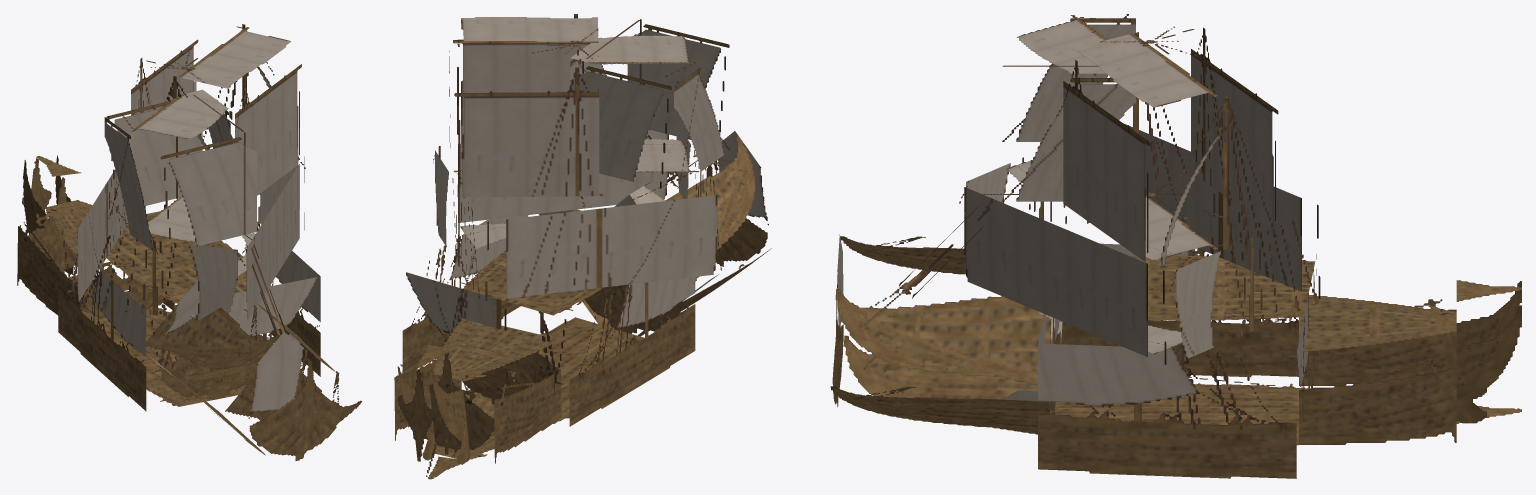
File: boat-512.glb
3 views of the same model, side by side, from view 1: azimuth 30°, elevation 25°; view 2: azimuth 150°, elevation 25°; view 3: azimuth 270°, elevation 25° (orthographic). The views are drawn at different scales.
Visible parts, largest first — view 1: box_impostor; view 2: box_impostor; view 3: box_impostor.
Boxes of the visible parts, x1,y1,x2,y2 form: box_impostor: (17,24,361,460); box_impostor: (394,14,771,479); box_impostor: (830,14,1521,478).
Bounding box in the file's own units: 1.33 × 1.6 × 2.53.
1 material, 1 textured.
